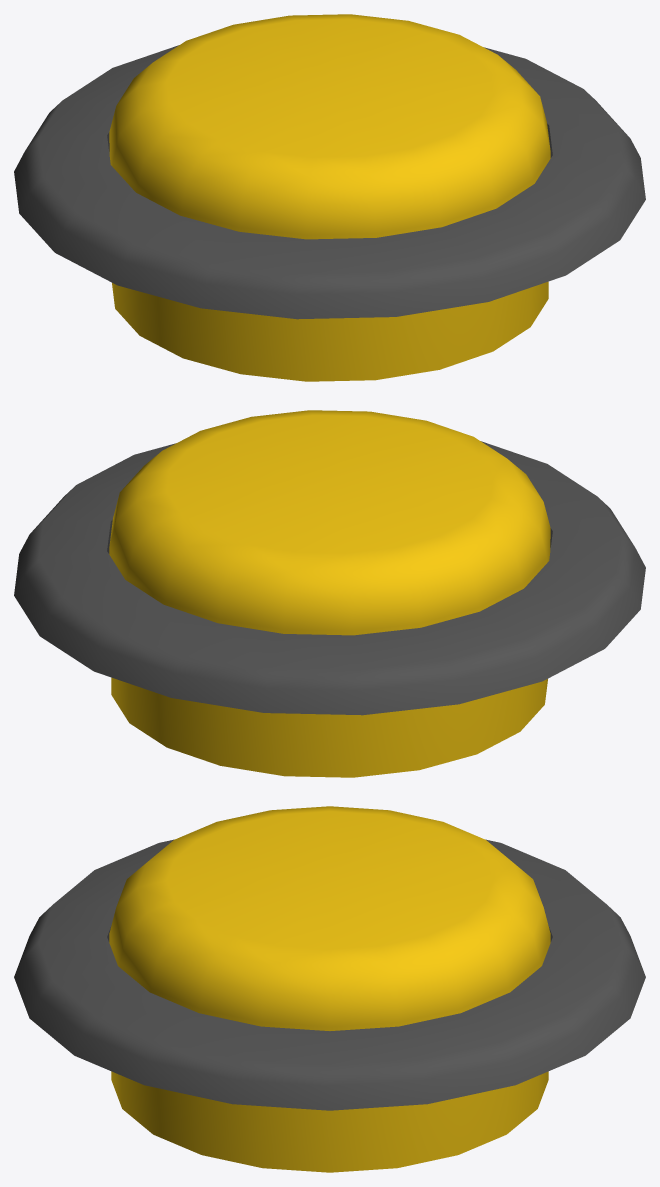
File: button5_pressed.glb
The picture shows the model from 3 angles, top to bottom: view 1: azimuth 30°, elevation 25°; view 2: azimuth 150°, elevation 25°; view 3: azimuth 270°, elevation 25°; orthographic projection.
Visible parts, largest first — view 1: SM_SimpleButton_B.001, SM_SimpleButton_Base_B.001; view 2: SM_SimpleButton_B.001, SM_SimpleButton_Base_B.001; view 3: SM_SimpleButton_B.001, SM_SimpleButton_Base_B.001.
Boxes of the visible parts, <box> form: SM_SimpleButton_B.001: <box>109,14,550,381</box>; SM_SimpleButton_Base_B.001: <box>14,45,645,319</box>; SM_SimpleButton_B.001: <box>109,410,550,777</box>; SM_SimpleButton_Base_B.001: <box>14,441,645,715</box>; SM_SimpleButton_B.001: <box>109,806,550,1172</box>; SM_SimpleButton_Base_B.001: <box>14,839,645,1110</box>.
Bounding box in the file's own units: 24.07 × 8.4 × 24.07.
